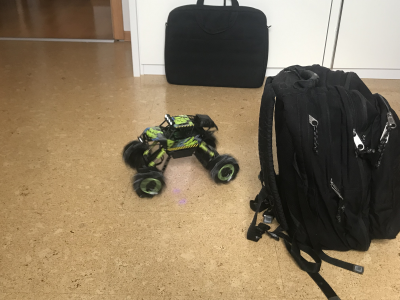remote control car: (119, 110, 240, 200)
